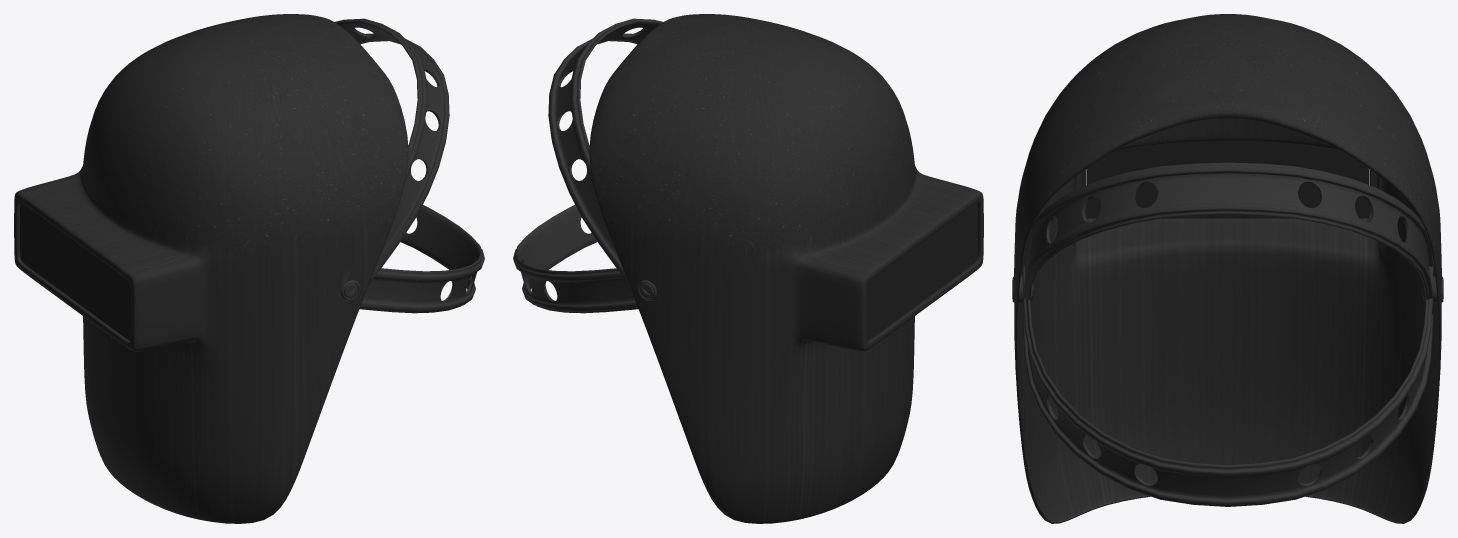
File: mask.fbx
3 renders of one model, left to right at view 1: azimuth 30°, elevation 25°; view 2: azimuth 150°, elevation 25°; view 3: azimuth 270°, elevation 25°, orthographic. The views are drawn at different scales.
Parts seen in each view (by area): view 1: weld mask 02.002, weld mask 02, weld mask 02.001; view 2: weld mask 02.002, weld mask 02, weld mask 02.001; view 3: weld mask 02.002, weld mask 02, weld mask 02.001.
Part boxes in pixels (x1,y1,x2,y2): weld mask 02.002: (14, 14, 408, 523); weld mask 02: (334, 18, 484, 313); weld mask 02.001: (20, 202, 131, 340); weld mask 02.002: (589, 14, 983, 523); weld mask 02: (513, 18, 663, 313); weld mask 02.001: (866, 202, 977, 340); weld mask 02.002: (1014, 14, 1441, 523); weld mask 02: (1012, 162, 1443, 506); weld mask 02.001: (1086, 141, 1369, 218).
Size of the model in its own units: 32.64 by 33.64 by 25.17.
Materials: 3 (1 with a texture image).
